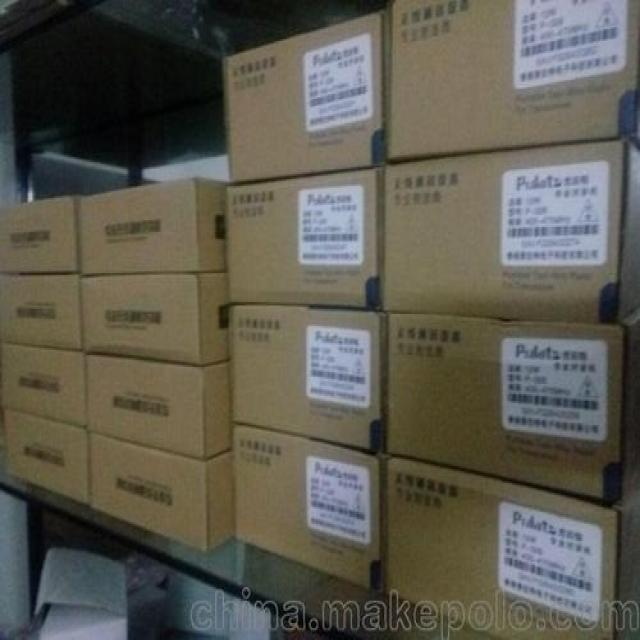box: (383, 308, 639, 502), (385, 141, 639, 325), (386, 454, 639, 638), (385, 0, 639, 160), (226, 10, 386, 182), (232, 423, 387, 591), (232, 302, 384, 452), (228, 163, 383, 307), (88, 428, 236, 552), (83, 352, 233, 459), (81, 176, 228, 275), (80, 271, 231, 366), (2, 406, 89, 504), (32, 548, 127, 637), (171, 568, 289, 638), (2, 339, 87, 429), (1, 193, 81, 275), (0, 273, 81, 349), (26, 152, 129, 198), (1, 490, 33, 638)
